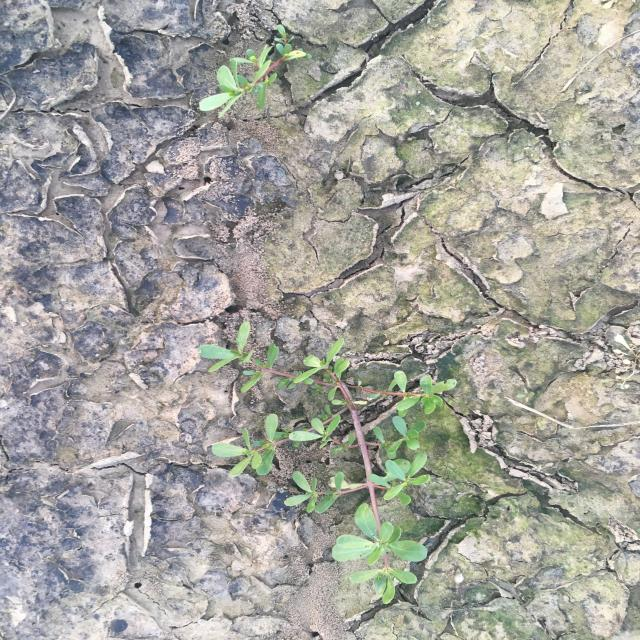Purslane: (197, 319, 458, 606), (197, 23, 315, 119)
